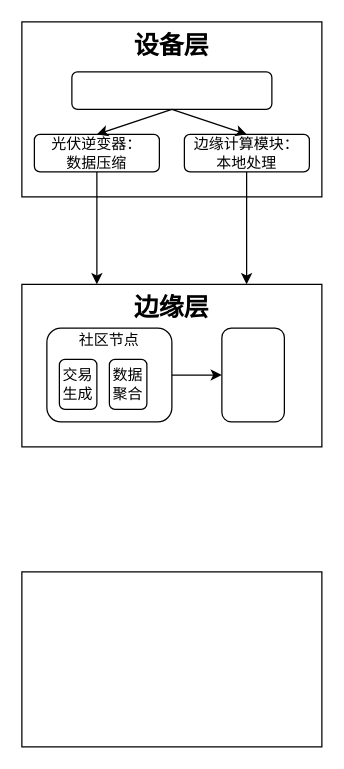
Image size: 344x769. Some labels were removed from this diagram. The shapes that lost their labels are listed below. From the top down, each one's centre as x and y in pixels, then its label:
At (x=171, y=90): "智能电表：数据采集".
At (x=252, y=374): "PoR共识 算法： 信誉评分 动态权重".
